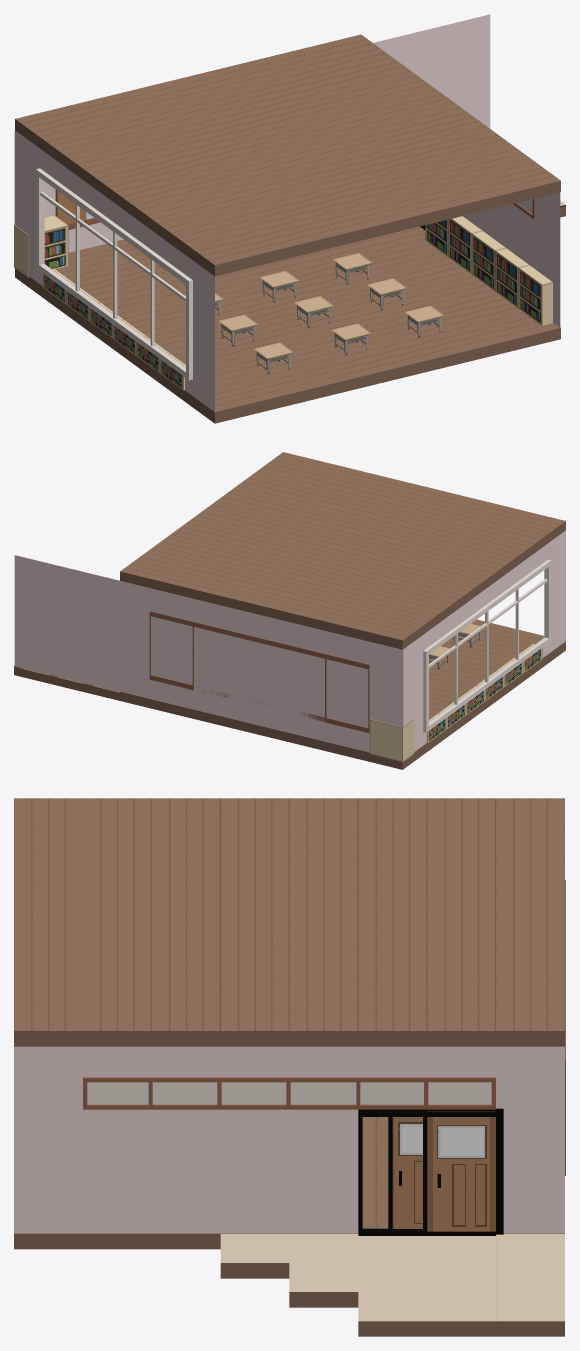
The model's file is RiscuitsClassroomNoBorder.gltf.
3 views of the same model, one above another, from view 1: azimuth 30°, elevation 25°; view 2: azimuth 150°, elevation 25°; view 3: azimuth 270°, elevation 25° (orthographic). The views are drawn at different scales.
Parts seen in each view (by area): view 1: cuboid (×115), plane (×19), SmallDesk (×8); view 2: cuboid (×75), plane (×38); view 3: cuboid (×86), plane (×28).
Part boxes in pixels (bbox=[...]): cuboid (×115): bbox=[14, 34, 560, 423]; plane (×19): bbox=[15, 14, 560, 411]; SmallDesk (×8): bbox=[218, 253, 444, 373]; cuboid (×75): bbox=[120, 452, 565, 769]; plane (×38): bbox=[14, 530, 565, 751]; cuboid (×86): bbox=[14, 798, 564, 1336]; plane (×28): bbox=[14, 1046, 564, 1233].
Bounding box in the file's own units: 11.09 × 3.5 × 8.02.
16 materials, 15 textured.
